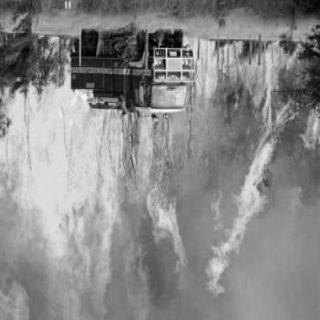Fire: (2, 102, 184, 314), (196, 48, 290, 312), (38, 36, 74, 102), (298, 106, 320, 158)
